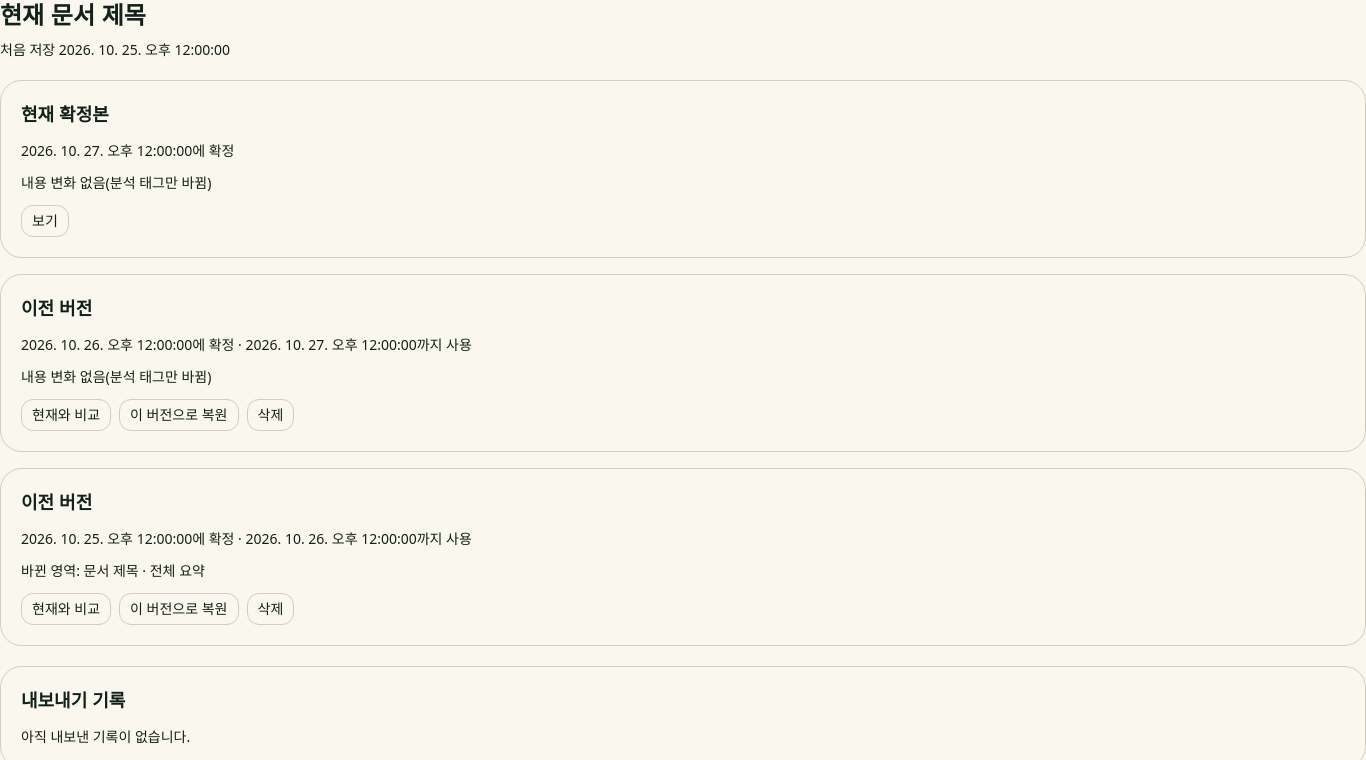
Test: shows the unchanged-content fallback for retained identical snapshots
Expected: the text "내용 변화 없음(분석 태그만 바뀜)" below "현재 확정본" is shown, [21, 173, 211, 192]
Click the 1st button "현재와 비교".
click(66, 415)  # box [21, 399, 111, 431]
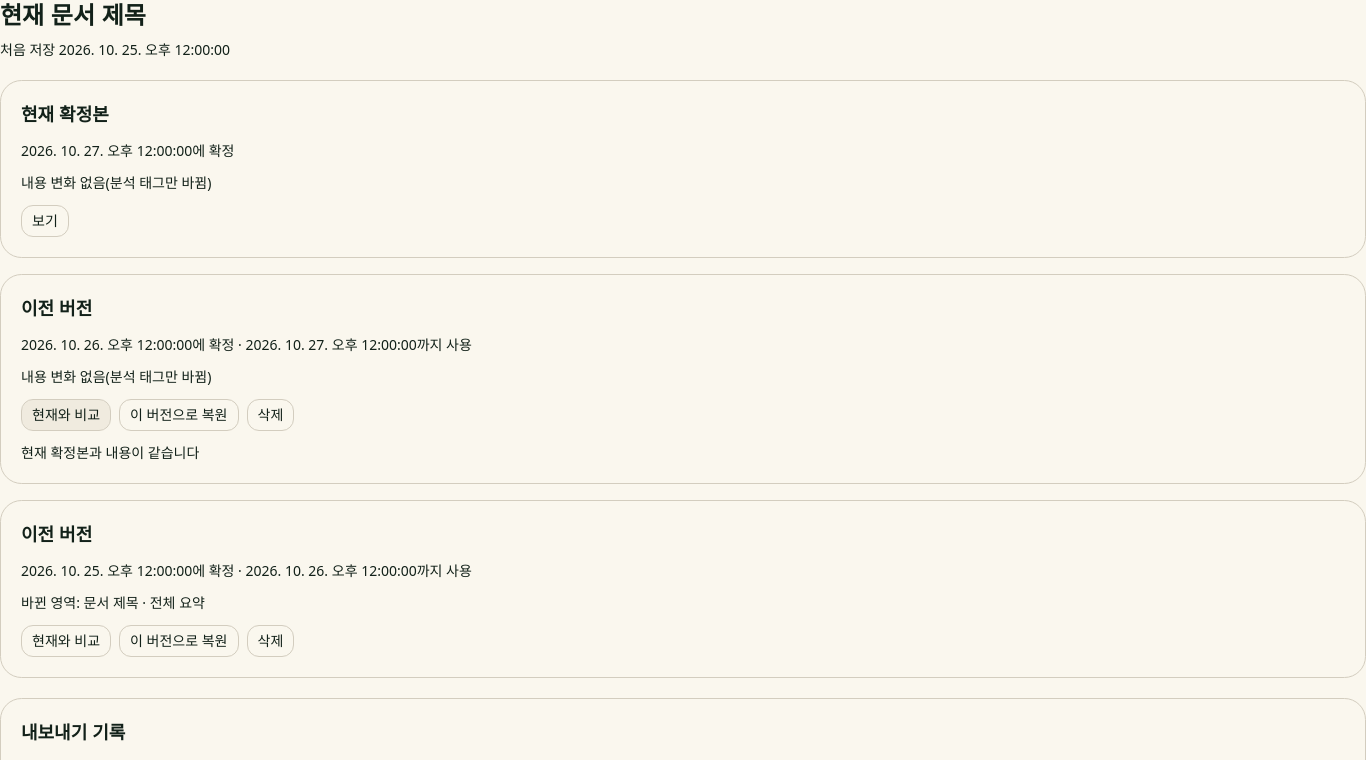
Expected: the text "현재 확정본과 내용이 같습니다" is shown, [21, 443, 199, 462]
